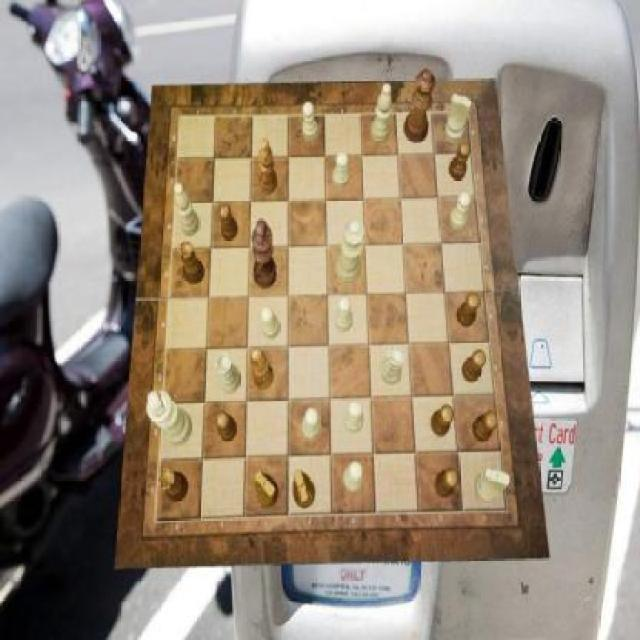bishop: (258, 139, 278, 193), (251, 348, 274, 390)
black-bishop: (252, 220, 277, 291)
black-king: (256, 469, 280, 508), (294, 469, 317, 509)
black-knight: (449, 143, 472, 182), (463, 349, 488, 383), (472, 411, 498, 443), (457, 292, 480, 327), (218, 203, 238, 241), (431, 405, 454, 437), (436, 468, 460, 498), (216, 411, 237, 442)
black-pawn: (405, 69, 437, 144)
black-queen: (180, 242, 206, 286), (158, 468, 190, 502)
black-rook: (369, 84, 392, 144), (174, 183, 198, 237)
white-bishop: (146, 390, 192, 446)
white-king: (445, 94, 472, 143), (476, 468, 512, 502)
white-knight: (449, 192, 472, 231), (344, 400, 364, 434), (343, 461, 363, 494), (335, 296, 353, 332), (302, 103, 318, 143), (262, 304, 280, 338), (334, 152, 351, 188), (302, 408, 321, 440)
white-pawn: (336, 218, 366, 282)
white-queen: (380, 344, 405, 384), (217, 354, 241, 394)
